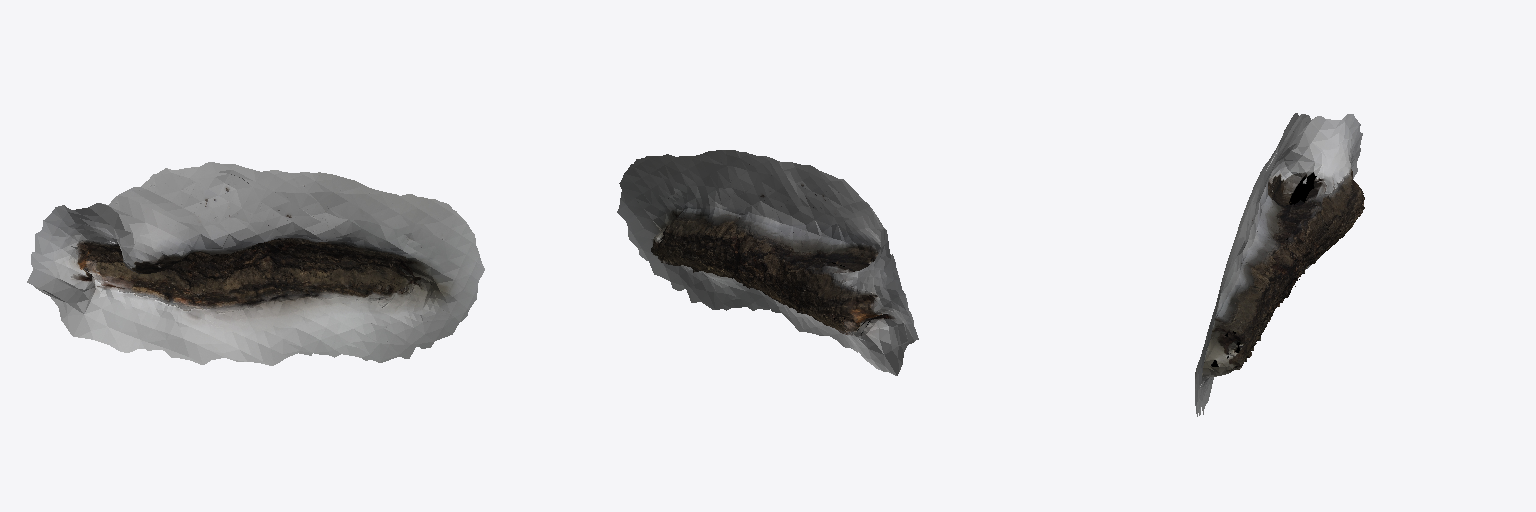
The picture shows the model from 3 angles: view 1: azimuth 30°, elevation 25°; view 2: azimuth 150°, elevation 25°; view 3: azimuth 270°, elevation 25°; orthographic projection.
Bounding box in the file's own units: 11.06 × 5.75 × 4.28.
Materials: 1 (1 with a texture image).